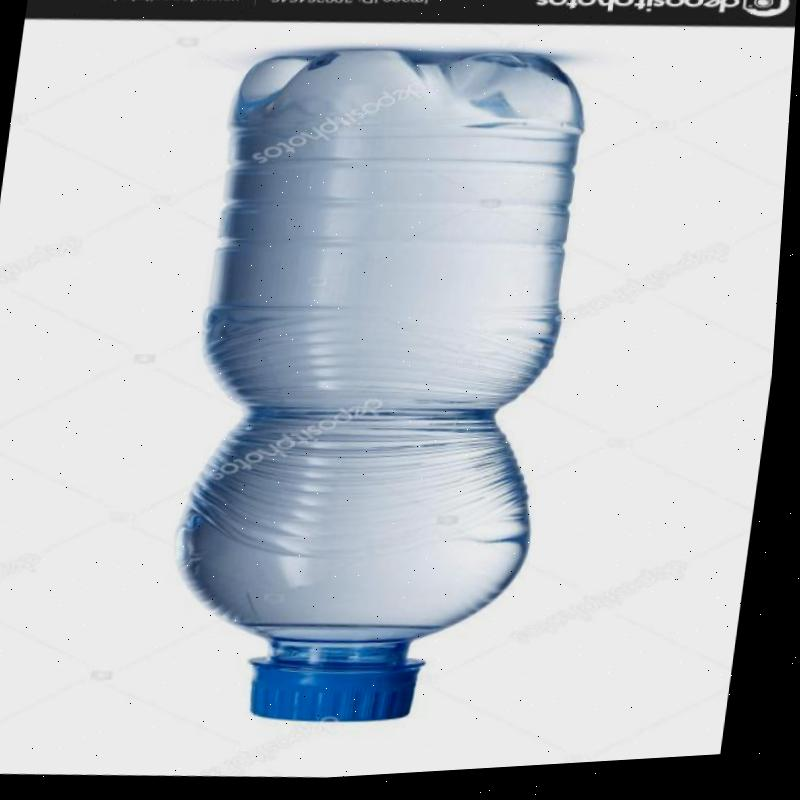botella: (159, 36, 608, 747)
